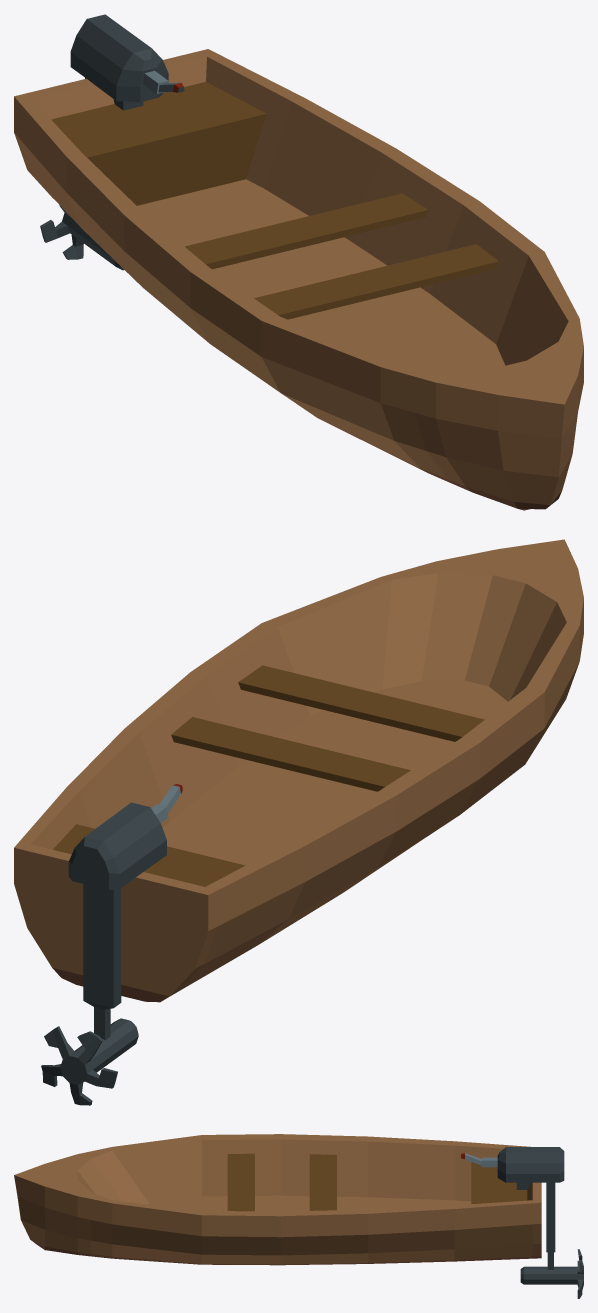
The model's file is Small_Ship.glb.
3 renders of one model, top to bottom at view 1: azimuth 30°, elevation 25°; view 2: azimuth 150°, elevation 25°; view 3: azimuth 270°, elevation 25°, orthographic. The views are drawn at different scales.
Visible parts, largest first — view 1: Wood_BoatV2; view 2: Wood_BoatV2; view 3: Wood_BoatV2.
Boxes of the visible parts, box(x1,y1,x2,y2) form: Wood_BoatV2: box(14, 14, 583, 510); Wood_BoatV2: box(14, 539, 583, 1105); Wood_BoatV2: box(14, 1134, 583, 1298).
Size of the model in its own units: 1.49 by 1.24 by 4.36.
Materials: 1 (1 with a texture image).
